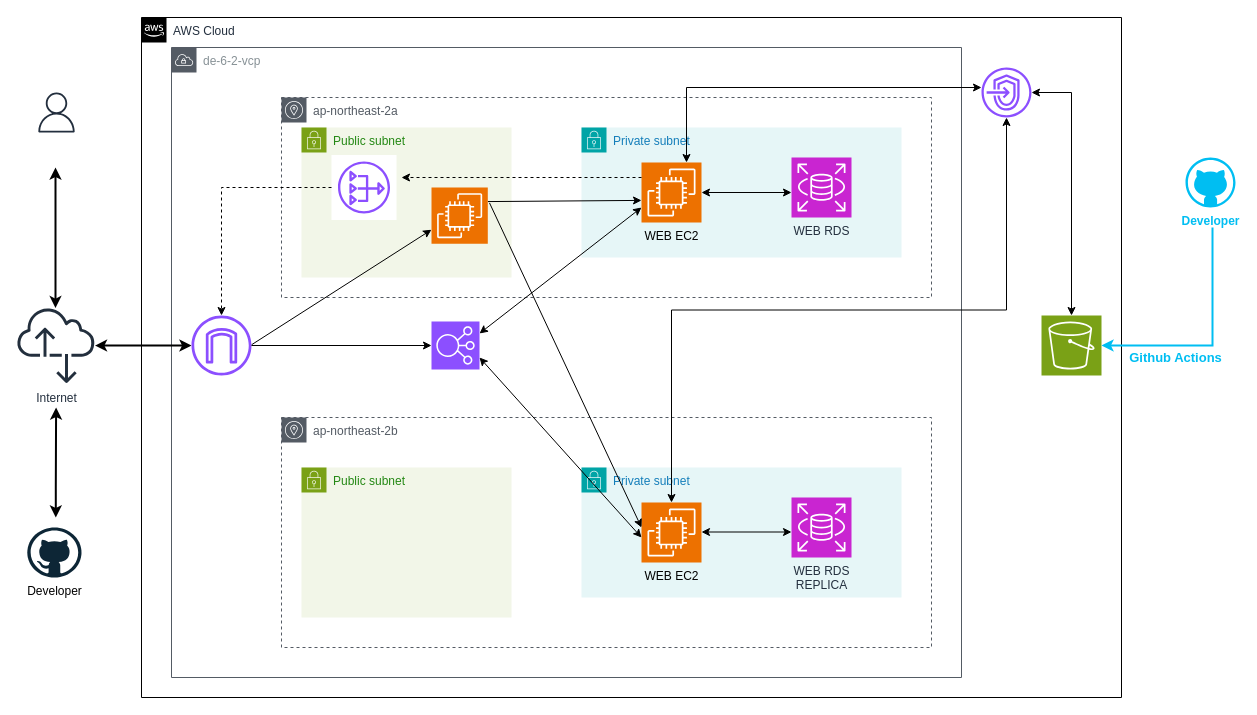
Some shapes in this 1257 by 715 pixel diagram are drawn without their labels. The shapes that lost their labels are listed below. From the top down, each one's centre as x and y in pixels, then its label:
At [56,112]: "User".
At [1006,92]: "Gateway Endpoints".
At [363,187]: "NAT Gateway".
At [459,215]: "Bastion Host".
At [221,345]: "Internet Gateway".
At [455,345]: "Application Load Balancer".
At [1071,345]: "S3".
